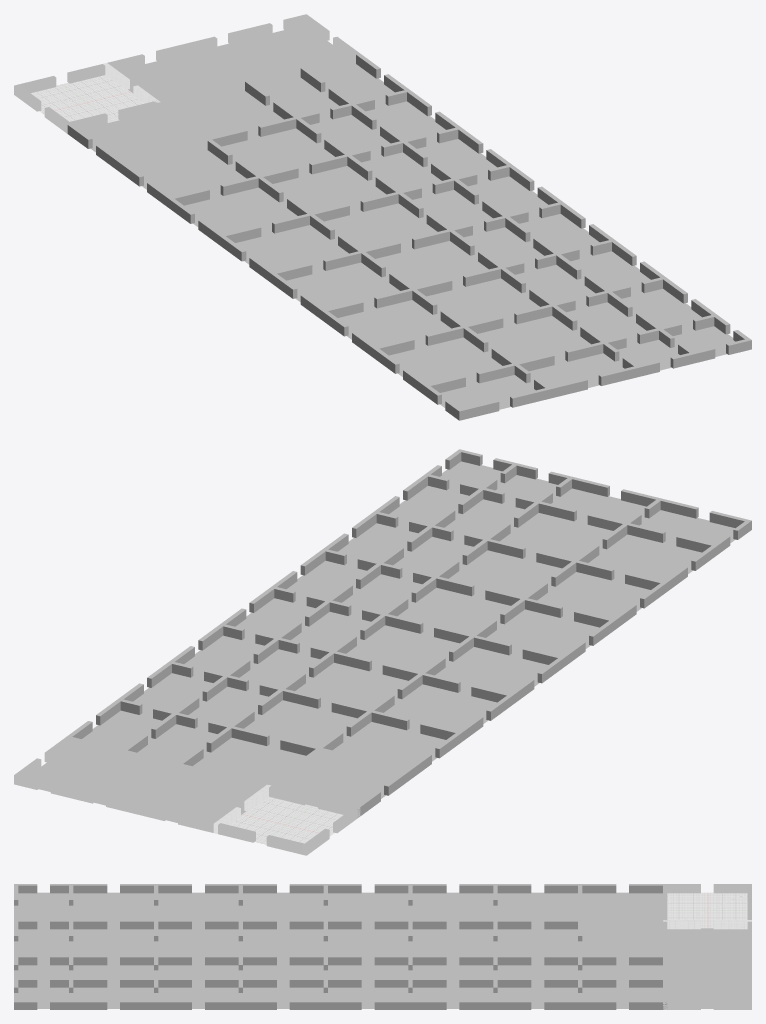
The picture shows the model from 3 angles, top to bottom: view 1: azimuth 30°, elevation 25°; view 2: azimuth 150°, elevation 25°; view 3: azimuth 270°, elevation 25°; orthographic projection. The views are drawn at different scales.
Parts seen in each view (by area): view 1: object1972, object1700, object1088, object1360, object1632, object340, object612, object884, object0, object1904, object272, object1428 (+24 smaller); view 2: object340, object1972, object1088, object612, object1700, object816, object1904, object0, object68, object1428, object1632, object544 (+24 smaller); view 3: object884, object816, object612, object1156, object544, object1088, object0, object68, object272, object340, object1360, object1428 (+105 smaller).
Boxes of the visible parts, x1,y1,x2,y2 form: object1972: (478,316,590,363); object1700: (426,278,539,326); object1088: (235,225,348,272); object1360: (287,262,399,310); object1632: (338,300,450,347); object340: (170,91,283,138); object612: (222,128,334,176); object884: (273,166,386,213); object0: (31,75,143,122); object1904: (389,337,501,385); object272: (82,112,195,160); object1428: (375,241,488,288); object340: (193,737,305,785); object1972: (500,513,612,560); object1088: (435,647,548,694); object612: (244,700,356,747); object1700: (449,550,561,598); object816: (384,684,496,732); object1904: (589,534,701,582); object0: (230,796,343,844); object68: (141,775,254,822); object1428: (397,587,510,635); object1632: (537,572,650,619); object544: (332,722,445,769); object884: (412,928,493,964); object816: (412,892,493,928); object612: (497,928,577,964); object1156: (328,928,408,964); object544: (497,892,577,928); object1088: (328,892,408,928); object0: (667,892,747,928); object68: (667,928,747,964); object272: (582,892,662,928); object340: (582,928,662,964); object1360: (243,892,323,928); object1428: (243,928,323,964).
Bounding box in the file's own units: 66 × 2 × 174.
